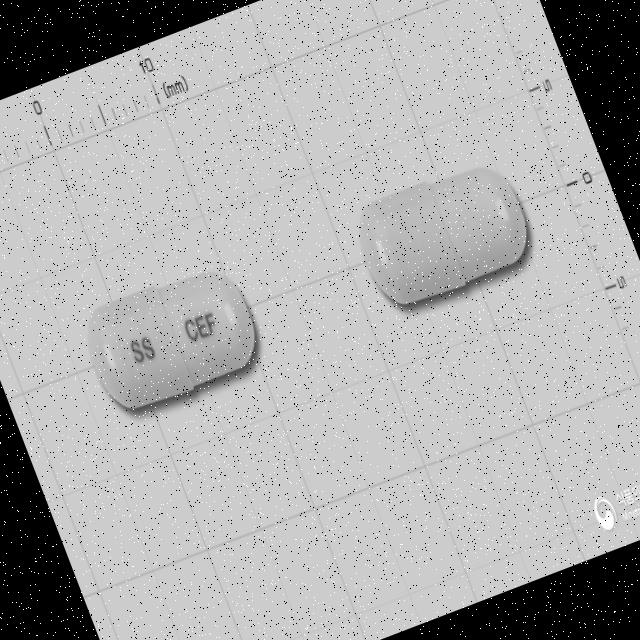Amoxicle: (347, 150, 542, 318), (76, 256, 270, 421)
